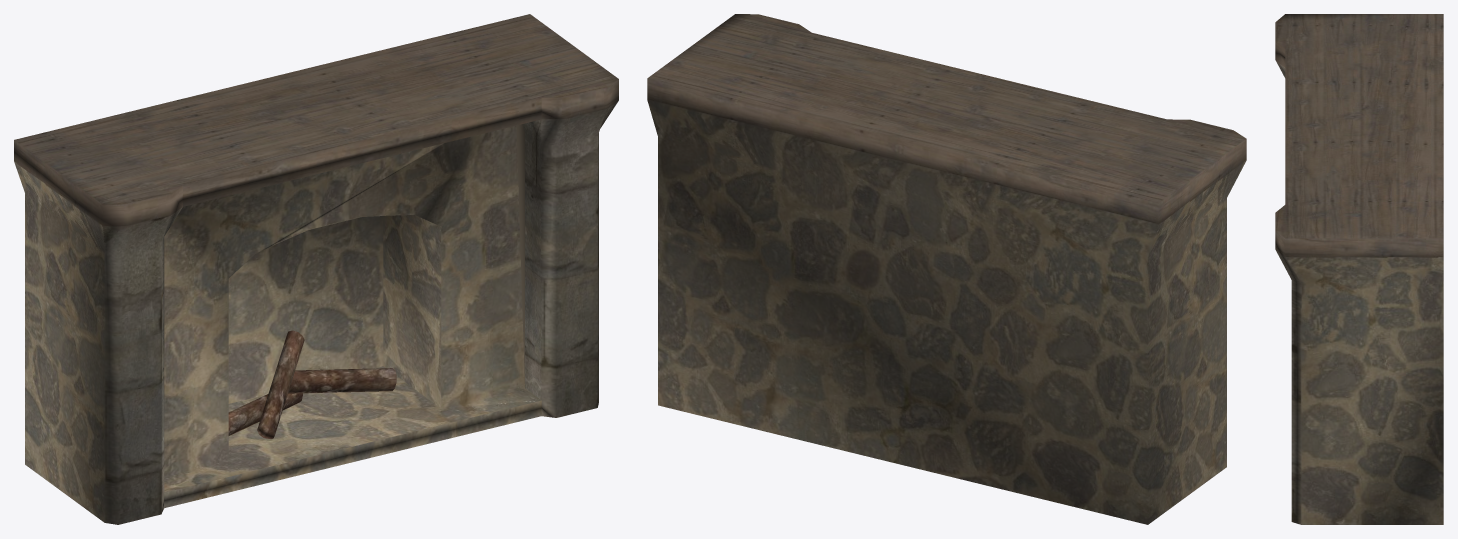
Rendered from medieval_fireplace.glb.
3 renders of one model, left to right at view 1: azimuth 30°, elevation 25°; view 2: azimuth 150°, elevation 25°; view 3: azimuth 270°, elevation 25°, orthographic. The views are drawn at different scales.
Visible parts, largest first — view 1: polySurface3; view 2: polySurface3; view 3: polySurface3.
Part boxes in pixels (bbox=[...]): polySurface3: bbox=[14, 14, 618, 524]; polySurface3: bbox=[647, 14, 1246, 524]; polySurface3: bbox=[1275, 14, 1443, 524].
Size of the model in its own units: 281 by 170 by 88.85.
1 material, 1 textured.
